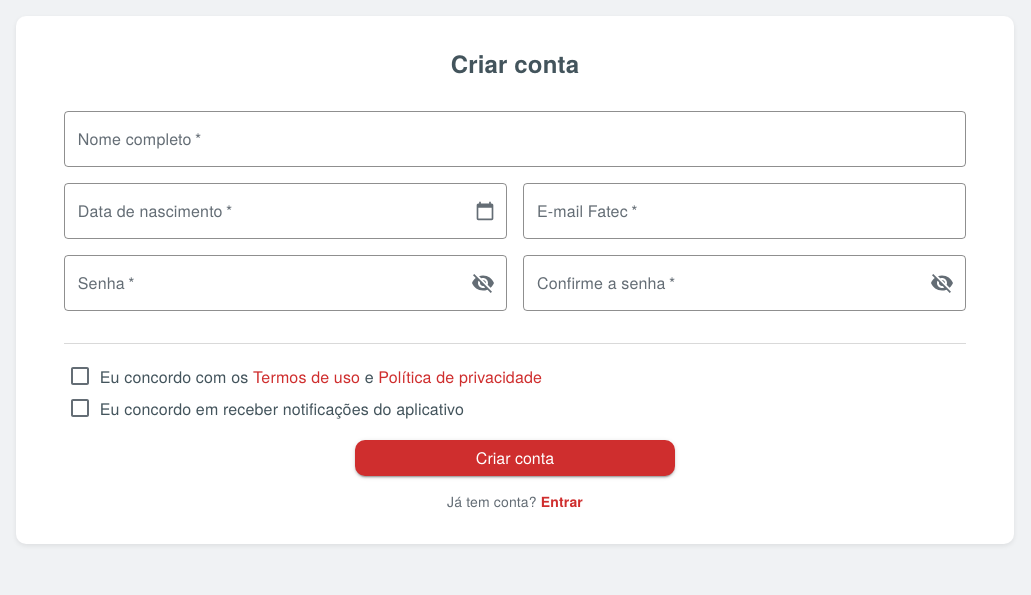
Scenario: Signup › should fill the field with the date chosen in the calendar
The image size is (1031, 595).
Type "22051999" into the field labelled "Data de nascimento *" at point(261, 211), box x1=64 y1=183 x2=459 y2=239
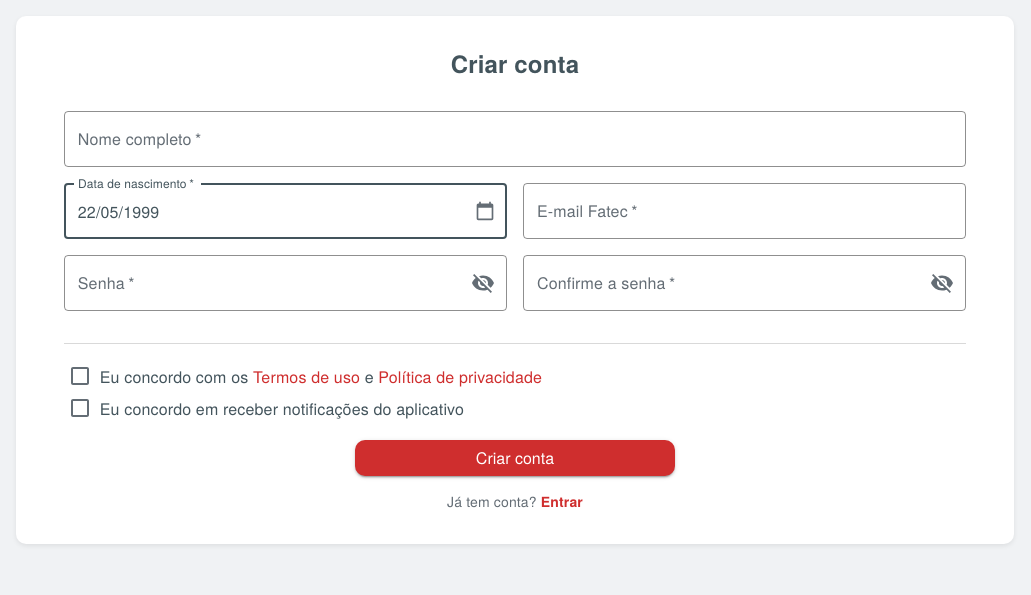
Click the button named "Abrir calendário" at point(485, 211), box x1=467 y1=193 x2=503 y2=229
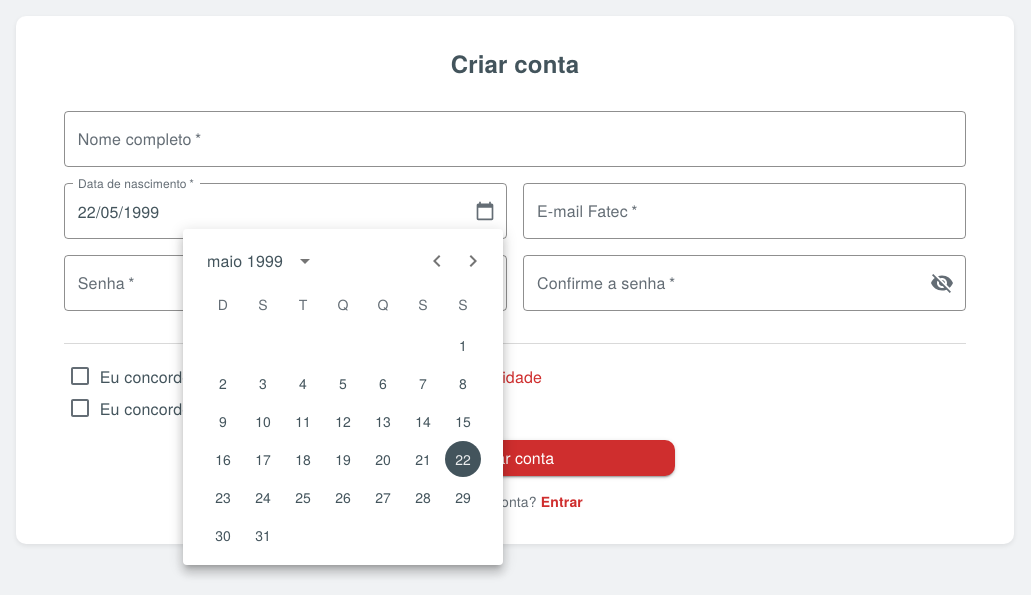
Click the cell "10" at point(263, 421), box x1=245 y1=403 x2=281 y2=439
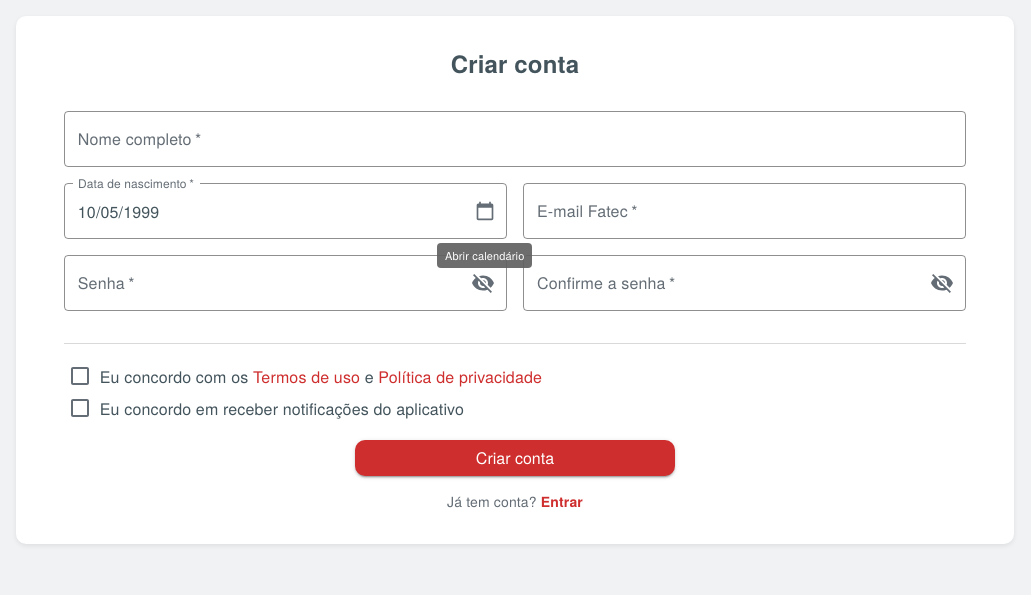
Now the field labelled "Data de nascimento *" holds "10/05/1999", box x1=64 y1=183 x2=459 y2=239
